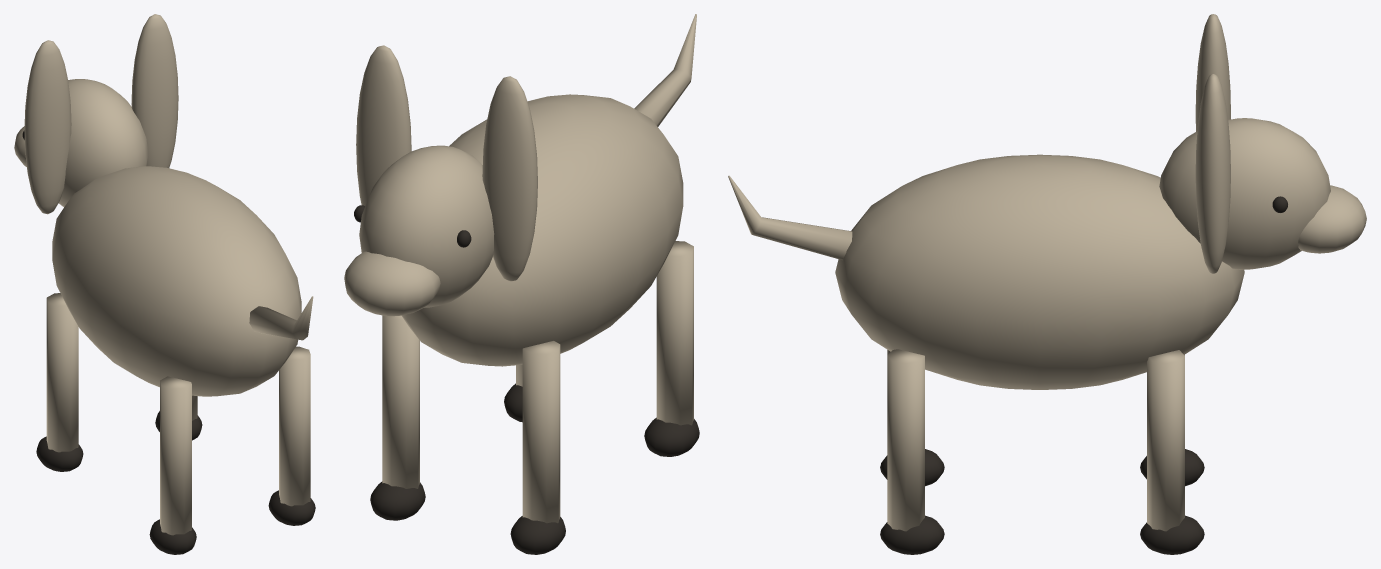
Rendered from rabbit.glb.
3 views of the same model, side by side, from view 1: azimuth 30°, elevation 25°; view 2: azimuth 150°, elevation 25°; view 3: azimuth 270°, elevation 25° (orthographic). The views are drawn at different scales.
Parts seen in each view (by area): view 1: Rabbit_Geometry, AnimalHead.003_Geometry, AnimalLeg.013_Geometry, AnimalLeg.012_Geometry, AnimalLeg.015_Geometry, AnimalLeg.014_Geometry; view 2: Rabbit_Geometry, AnimalHead.003_Geometry, AnimalLeg.012_Geometry, AnimalLeg.013_Geometry, AnimalLeg.014_Geometry, AnimalLeg.015_Geometry; view 3: Rabbit_Geometry, AnimalHead.003_Geometry, AnimalLeg.015_Geometry, AnimalLeg.014_Geometry.
Boxes of the visible parts, <box> form: Rabbit_Geometry: <box>52,166,313,396</box>; AnimalHead.003_Geometry: <box>14,14,178,214</box>; AnimalLeg.013_Geometry: <box>149,376,196,554</box>; AnimalLeg.012_Geometry: <box>36,293,83,471</box>; AnimalLeg.015_Geometry: <box>268,346,315,525</box>; AnimalLeg.014_Geometry: <box>155,395,202,440</box>; Rabbit_Geometry: <box>401,14,696,366</box>; AnimalHead.003_Geometry: <box>344,45,537,316</box>; AnimalLeg.012_Geometry: <box>510,341,565,554</box>; AnimalLeg.013_Geometry: <box>644,241,699,456</box>; AnimalLeg.014_Geometry: <box>370,315,425,520</box>; AnimalLeg.015_Geometry: <box>504,365,522,422</box>; Rabbit_Geometry: <box>728,154,1244,389</box>; AnimalHead.003_Geometry: <box>1159,14,1366,273</box>; AnimalLeg.015_Geometry: <box>880,349,944,554</box>; AnimalLeg.014_Geometry: <box>1140,350,1204,554</box>.
Size of the model in its own units: 0.24 by 0.532 by 0.6488.
